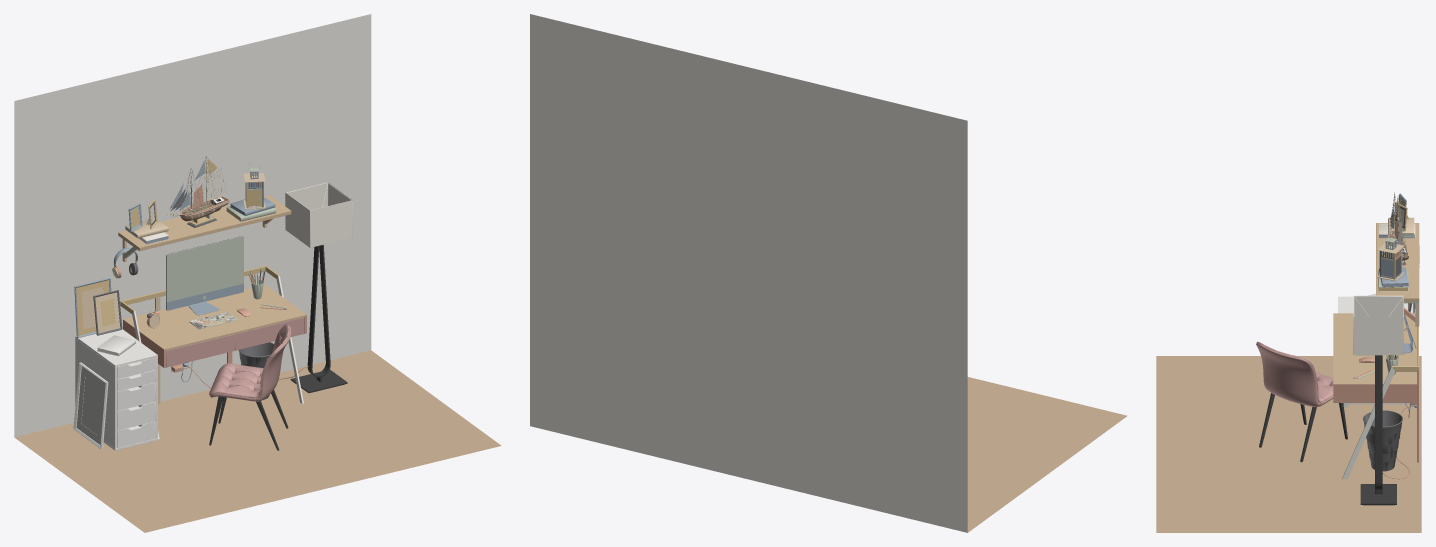
The model's file is goc-lam-viec.glb.
3 views of the same model, side by side, from view 1: azimuth 30°, elevation 25°; view 2: azimuth 150°, elevation 25°; view 3: azimuth 270°, elevation 25° (orthographic). The views are drawn at different scales.
Visible parts, largest first — view 1: Tuong, San, workplace1_001, workplace1_214, workplace1_165, workplace1_570, workplace1_162, workplace1_471, workplace1_469, workplace1_154, workplace1_153, workplace1_206 (+11 smaller); view 2: Tuong, San; view 3: San, workplace1_001, workplace1_165, workplace1_570, workplace1_150, workplace1_394, workplace1_162, workplace1_169, workplace1_164, workplace1_158, workplace1_469.
Boxes of the visible parts, x1,y1,x2,y2 form: Tuong: (14,14,371,437); San: (14,350,501,532); workplace1_001: (123,284,306,350); workplace1_214: (166,236,243,302); workplace1_165: (285,182,352,247); workplace1_570: (209,324,291,401); workplace1_162: (118,195,291,251); workplace1_471: (75,338,116,448); workplace1_469: (75,329,157,367); workplace1_154: (166,334,235,367); workplace1_153: (235,317,304,350); workplace1_206: (81,376,101,435); Tuong: (530,14,967,532); San: (967,377,1127,532); San: (1156,356,1421,532); workplace1_001: (1333,313,1417,384); workplace1_165: (1353,295,1403,354); workplace1_570: (1256,341,1333,406); workplace1_150: (1333,384,1416,402); workplace1_394: (1363,410,1402,471); workplace1_162: (1376,223,1419,301); workplace1_169: (1375,355,1382,482); workplace1_164: (1360,484,1396,504); workplace1_158: (1342,367,1395,479); workplace1_469: (1338,296,1415,313).
Bounding box in the file's own units: 3 × 2.7 × 1.9.
